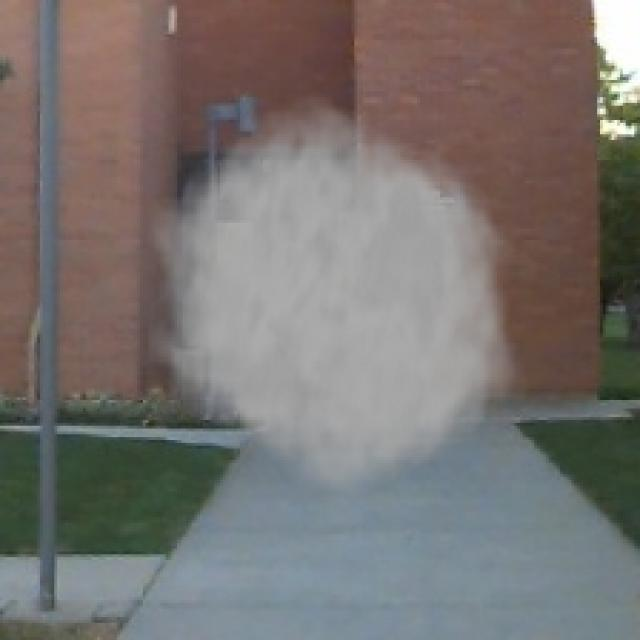smoke: (148, 86, 532, 506)
